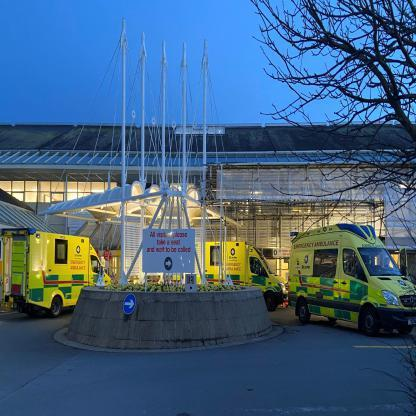Ambulance - v1 Ambulance last generate: (284, 216, 416, 344), (9, 229, 117, 308), (200, 239, 283, 308)
